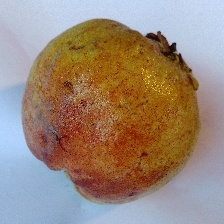guava: (32, 24, 224, 184)
